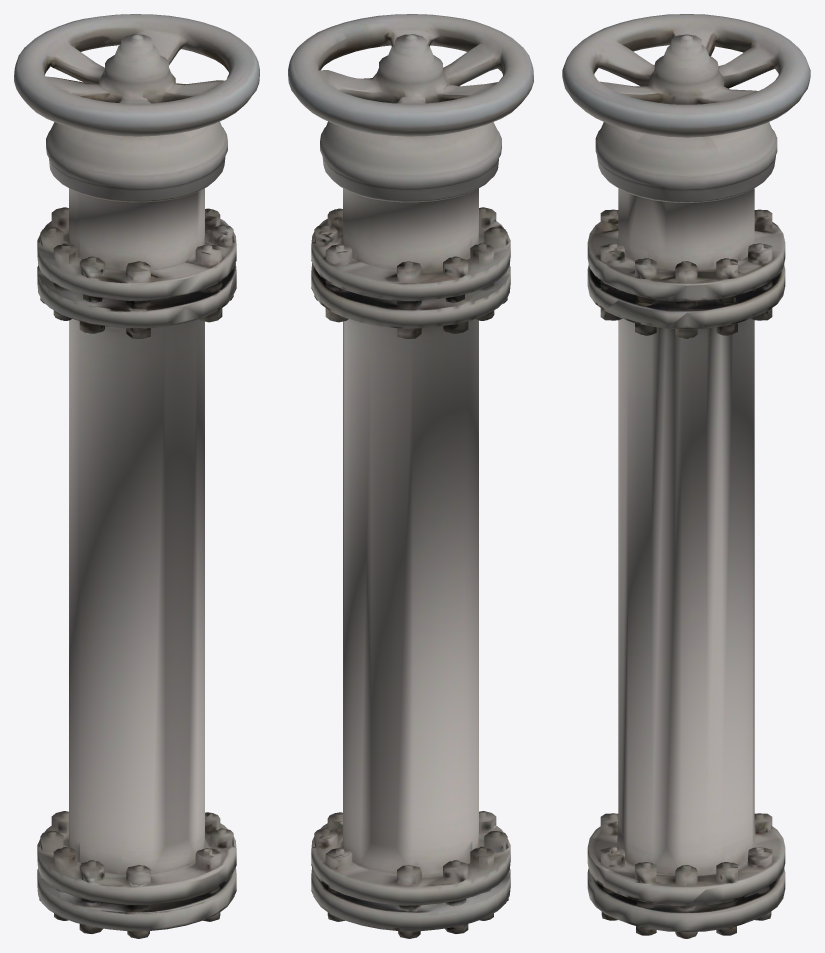
The model's file is industrial_pipe_cb740c0c_v4.glb.
3 renders of one model, left to right at view 1: azimuth 30°, elevation 25°; view 2: azimuth 150°, elevation 25°; view 3: azimuth 270°, elevation 25°, orthographic.
Parts seen in each view (by area): view 1: material; view 2: material; view 3: material.
Boxes of the visible parts, x1,y1,x2,y2 form: material: [14, 14, 259, 938]; material: [288, 14, 533, 938]; material: [562, 14, 810, 938].
Size of the model in its own units: 0.494 by 1.9 by 0.494.
Materials: 1 (1 with a texture image).
